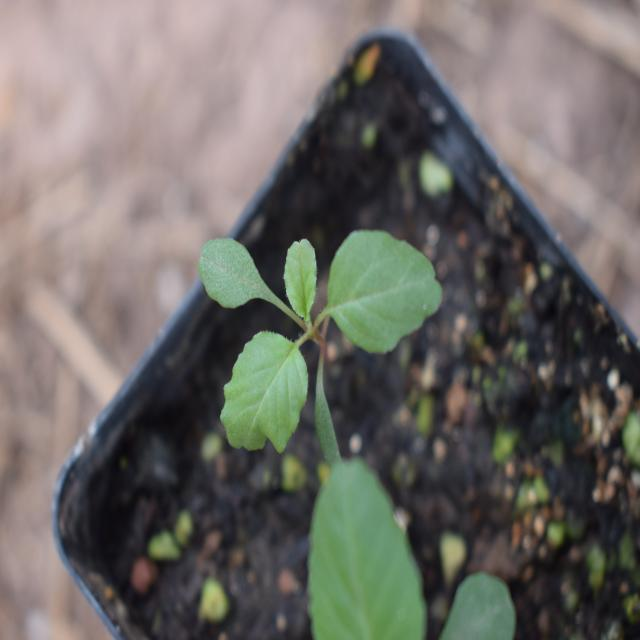pigweed: (191, 213, 443, 454)
